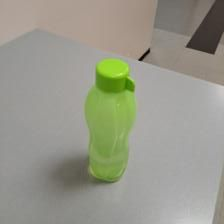bottle: (81, 55, 137, 183)
